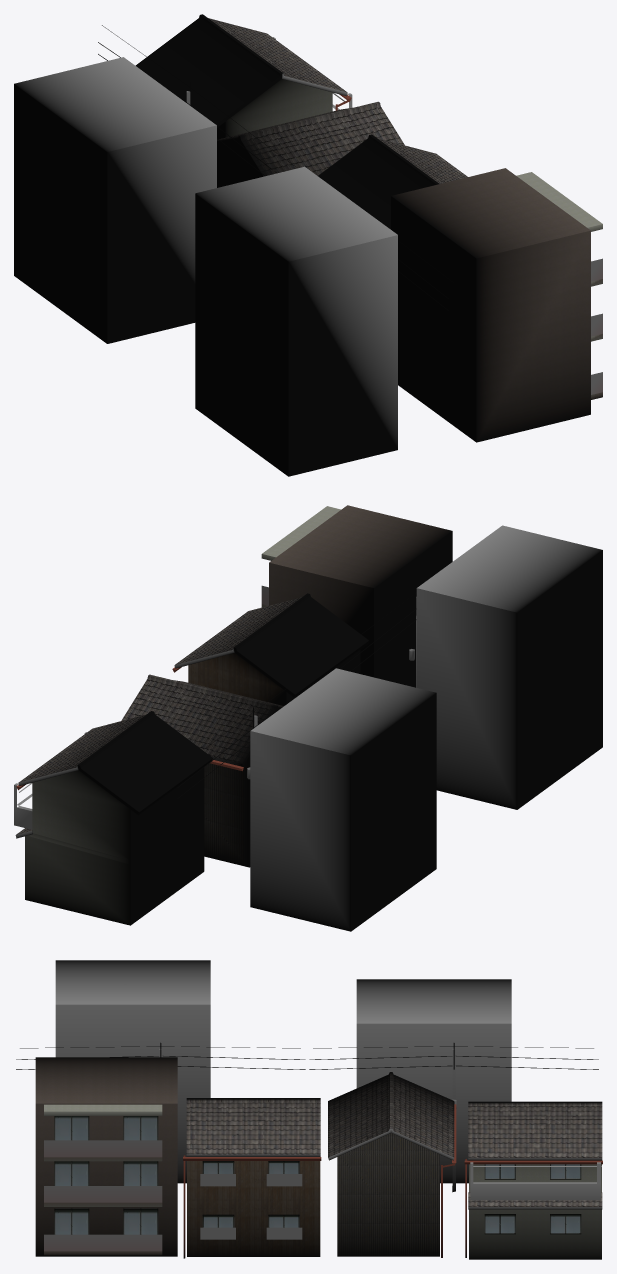
Rendered from AMB_HOUSE00.glb.
The picture shows the model from 3 angles, top to bottom: view 1: azimuth 30°, elevation 25°; view 2: azimuth 150°, elevation 25°; view 3: azimuth 270°, elevation 25°; orthographic projection. The views are drawn at different scales.
Visible parts, largest first — view 1: obj89, obj75, obj88, ie_start, obj74, obj73; view 2: obj89, obj88, ie_start, obj75, obj73, obj74; view 3: obj75, obj73, ie_start, obj74, obj88, obj89, obj86, obj87.
Boxes of the visible parts, x1,y1,x2,y2 form: obj89: [195, 166, 397, 476]; obj75: [391, 168, 602, 442]; obj88: [14, 57, 216, 343]; ie_start: [135, 14, 352, 139]; obj74: [217, 101, 404, 187]; obj73: [318, 134, 467, 229]; obj89: [416, 525, 602, 809]; obj88: [250, 668, 436, 931]; ie_start: [14, 711, 212, 925]; obj75: [261, 505, 452, 687]; obj73: [172, 593, 368, 705]; obj74: [121, 674, 283, 867]; obj75: [35, 1057, 177, 1256]; obj73: [183, 1098, 321, 1258]; ie_start: [464, 1101, 602, 1259]; obj74: [328, 1072, 456, 1257]; obj88: [356, 979, 511, 1183]; obj89: [55, 960, 210, 1183]; obj86: [309, 1043, 598, 1192]; obj87: [16, 1042, 305, 1069].
Bounding box in the file's own units: 51.79 × 33.98 × 101.
Materials: 19 (19 with a texture image).
